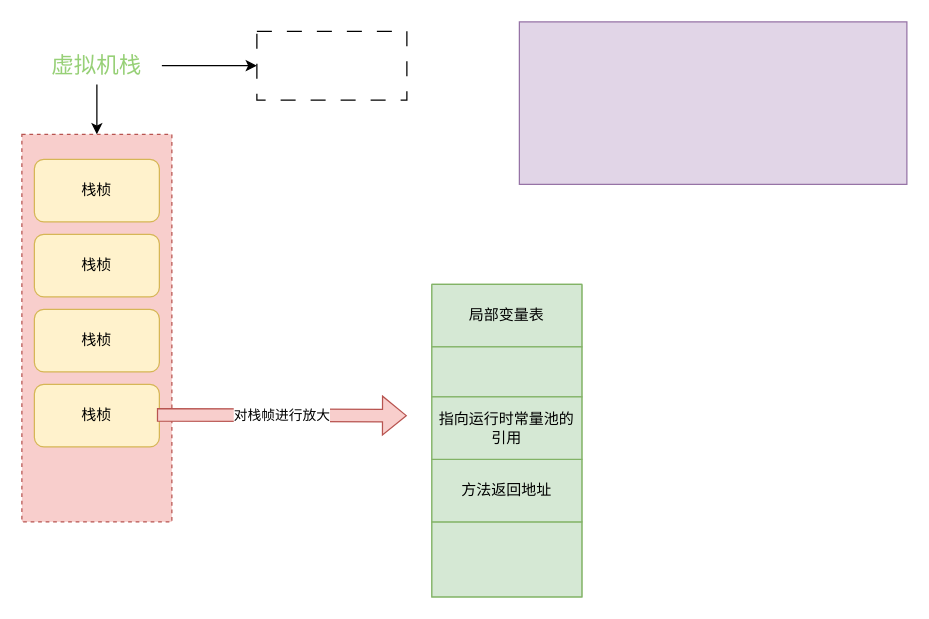
Some shapes in this 929 by 619 pixel diagram are drawn without their labels. Each missing label, with the box of its shape:
动态链接: (431, 521, 582, 597)
操作数栈: (431, 346, 582, 397)
概念：虚拟机栈就是由一个个栈帧组成: (256, 30, 407, 100)
每一次方法调用时，都会创建一个栈帧，然后压栈，当方法执行完成时，又会栈帧弹出，也就是出栈。 而栈帧内部则包含局部变量表，操作数栈，指向运行时常量池的引用: (518, 21, 907, 184)
